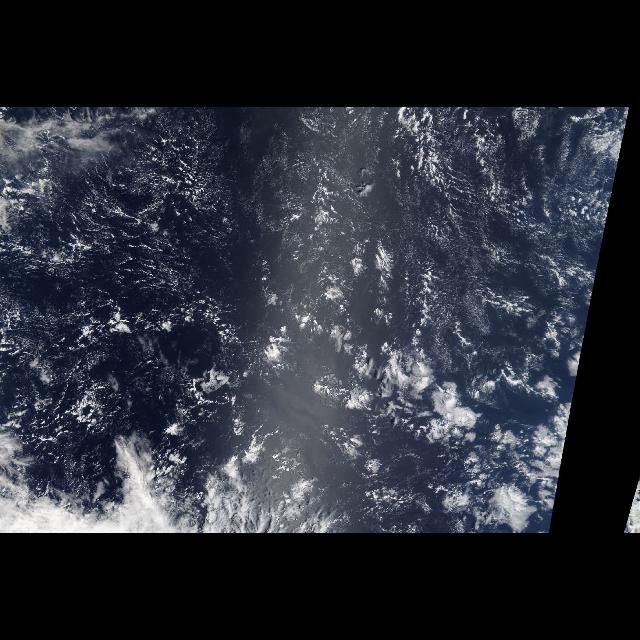Flower: (325, 339, 579, 531)
Gravel: (0, 110, 262, 494), (275, 110, 609, 326)
Sugar: (264, 113, 610, 361)
